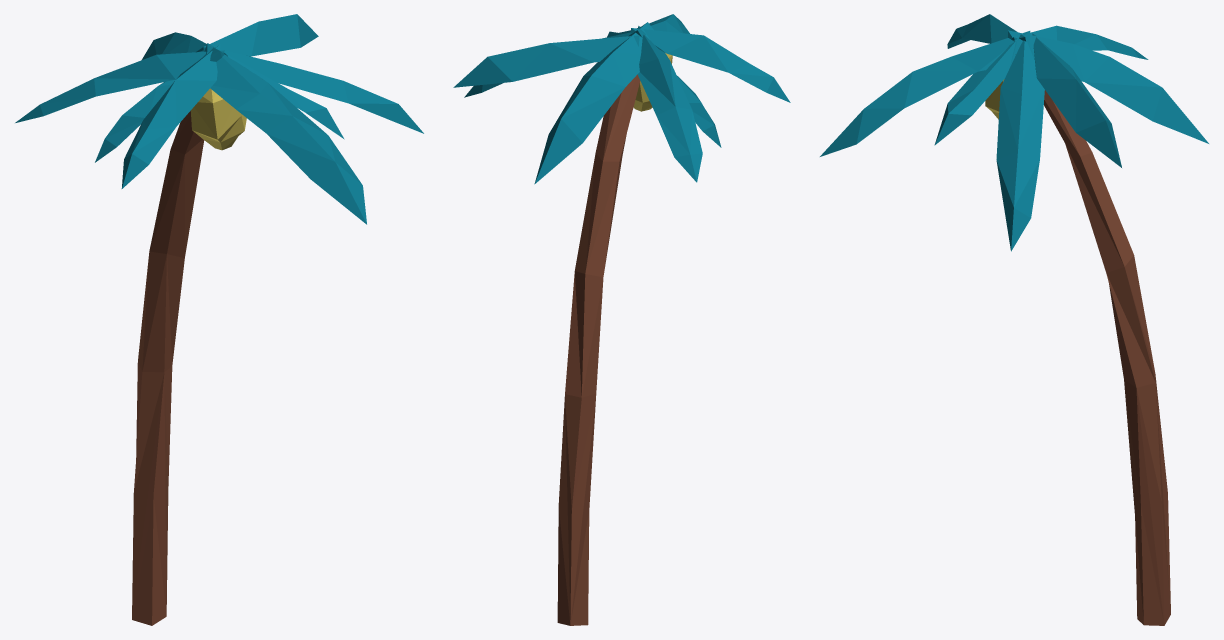
File: Tree_11_summer_blue_vc.fbx
The picture shows the model from 3 angles, left to right: view 1: azimuth 30°, elevation 25°; view 2: azimuth 150°, elevation 25°; view 3: azimuth 270°, elevation 25°; orthographic projection. The views are drawn at different scales.
Parts seen in each view (by area): view 1: Tree_11_summer_blue_vc; view 2: Tree_11_summer_blue_vc; view 3: Tree_11_summer_blue_vc.
Part boxes in pixels (left/top/right/bottom): Tree_11_summer_blue_vc: left=15, top=14, right=423, bottom=625; Tree_11_summer_blue_vc: left=453, top=14, right=790, bottom=625; Tree_11_summer_blue_vc: left=820, top=14, right=1208, bottom=625.
Size of the model in its own units: 117 by 207 by 124.
